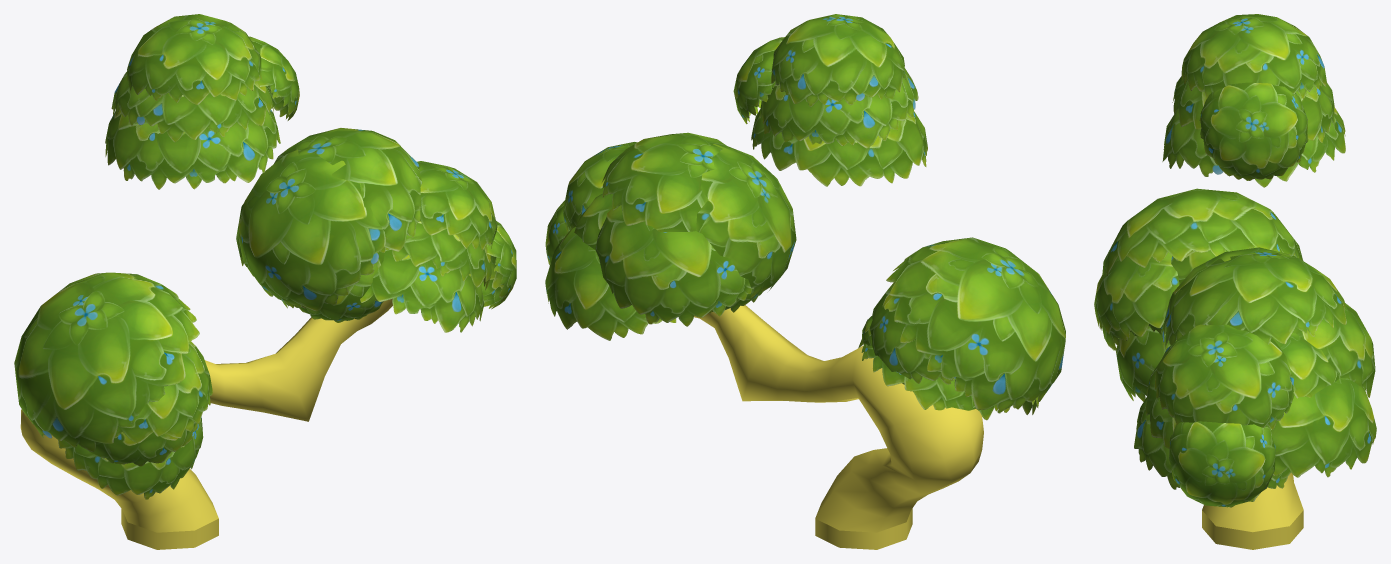
File: Arbol_Oscar.fbx
3 views of the same model, side by side, from view 1: azimuth 30°, elevation 25°; view 2: azimuth 150°, elevation 25°; view 3: azimuth 270°, elevation 25° (orthographic). The views are drawn at different scales.
Parts seen in each view (by area): view 1: 2_Arbol_Hojas_Antoni.003; view 2: 2_Arbol_Hojas_Antoni.003; view 3: 2_Arbol_Hojas_Antoni.003.
Part boxes in pixels (x1,y1,x2,y2): 2_Arbol_Hojas_Antoni.003: (14, 14, 516, 549); 2_Arbol_Hojas_Antoni.003: (545, 14, 1065, 549); 2_Arbol_Hojas_Antoni.003: (1094, 14, 1376, 549).
Size of the model in its own units: 768 by 753 by 371.
